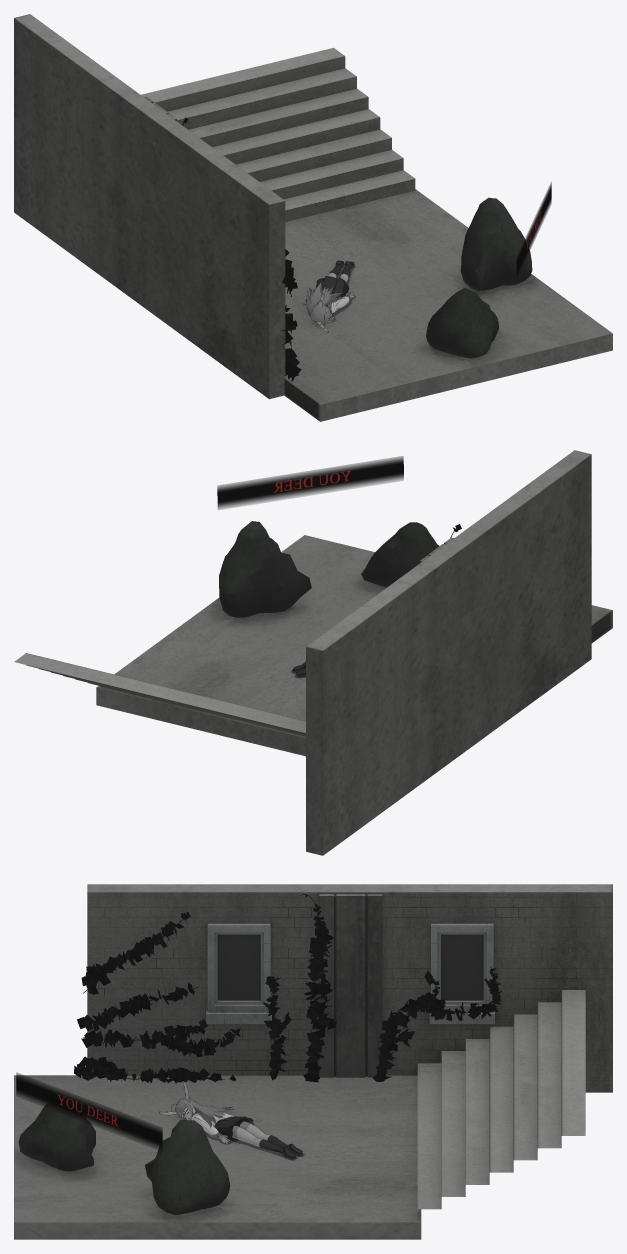
File: konoko.glb
The picture shows the model from 3 angles, top to bottom: view 1: azimuth 30°, elevation 25°; view 2: azimuth 150°, elevation 25°; view 3: azimuth 270°, elevation 25°; orthographic projection. The views are drawn at different scales.
Visible parts, largest first — view 1: Plane.004, Plane, Plane.001, rock, rock.002, Circle.007, Plane.005, Vert.007; view 2: Plane.004, Plane, rock, Plane.005, Plane.001, rock.002; view 3: Plane.004, Plane, Plane.001, Plane.003, Plane.002, rock, rock.002, Plane.005, Circle.007, Vert.007, NurbsPath.
Part boxes in pixels (left/top/right/bottom): Plane.004: left=14, top=14, right=285, bottom=399; Plane: left=284, top=189, right=612, bottom=421; Plane.001: left=141, top=47, right=415, bottom=221; rock: left=460, top=197, right=532, bottom=290; rock.002: left=426, top=288, right=498, bottom=358; Circle.007: left=309, top=260, right=354, bottom=313; Plane.005: left=516, top=182, right=551, bottom=277; Vert.007: left=302, top=282, right=345, bottom=323; Plane.004: left=306, top=450, right=591, bottom=855; Plane: left=96, top=535, right=612, bottom=756; rock: left=219, top=521, right=311, bottom=617; Plane.005: left=217, top=456, right=403, bottom=509; Plane.001: left=14, top=653, right=305, bottom=736; rock.002: left=361, top=522, right=439, bottom=587; Plane.004: left=87, top=884, right=612, bottom=1092; Plane: left=14, top=1075, right=421, bottom=1239; Plane.001: left=417, top=990, right=585, bottom=1209; Plane.003: left=206, top=923, right=494, bottom=1024; Plane.002: left=319, top=894, right=382, bottom=1077; rock: left=145, top=1120, right=230, bottom=1214; rock.002: left=18, top=1103, right=95, bottom=1171; Plane.005: left=16, top=1072, right=162, bottom=1151; Circle.007: left=191, top=1111, right=302, bottom=1159; Vert.007: left=176, top=1097, right=234, bottom=1128; NurbsPath: left=81, top=893, right=498, bottom=1081.
Bounding box in the file's own units: 5.05 × 3.02 × 7.97.
5 materials, 3 textured.
